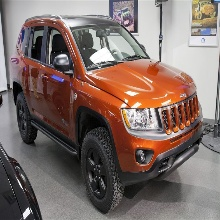no damage: (10, 15, 205, 212)
